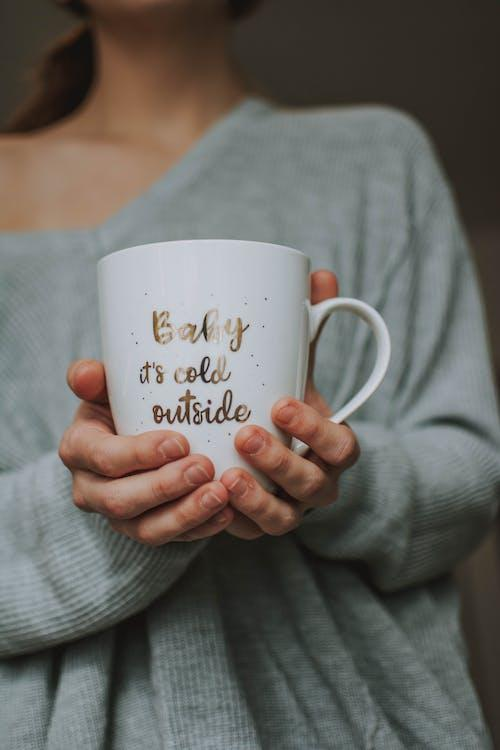Mug: (40, 207, 388, 550)
